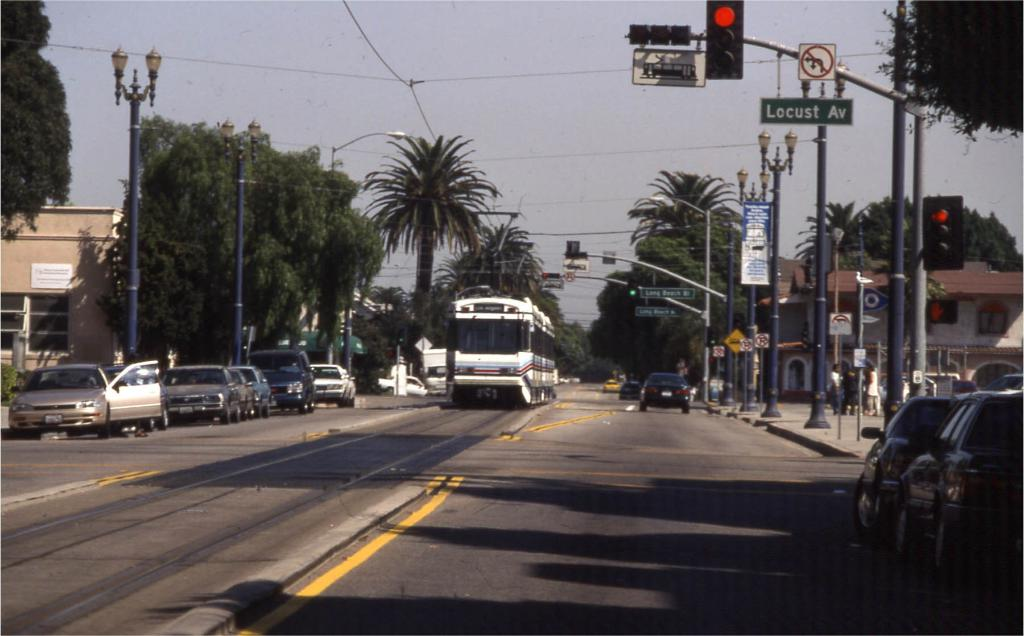no_left_turn: (798, 43, 837, 81)
red_light: (709, 4, 738, 30), (928, 205, 951, 227)
